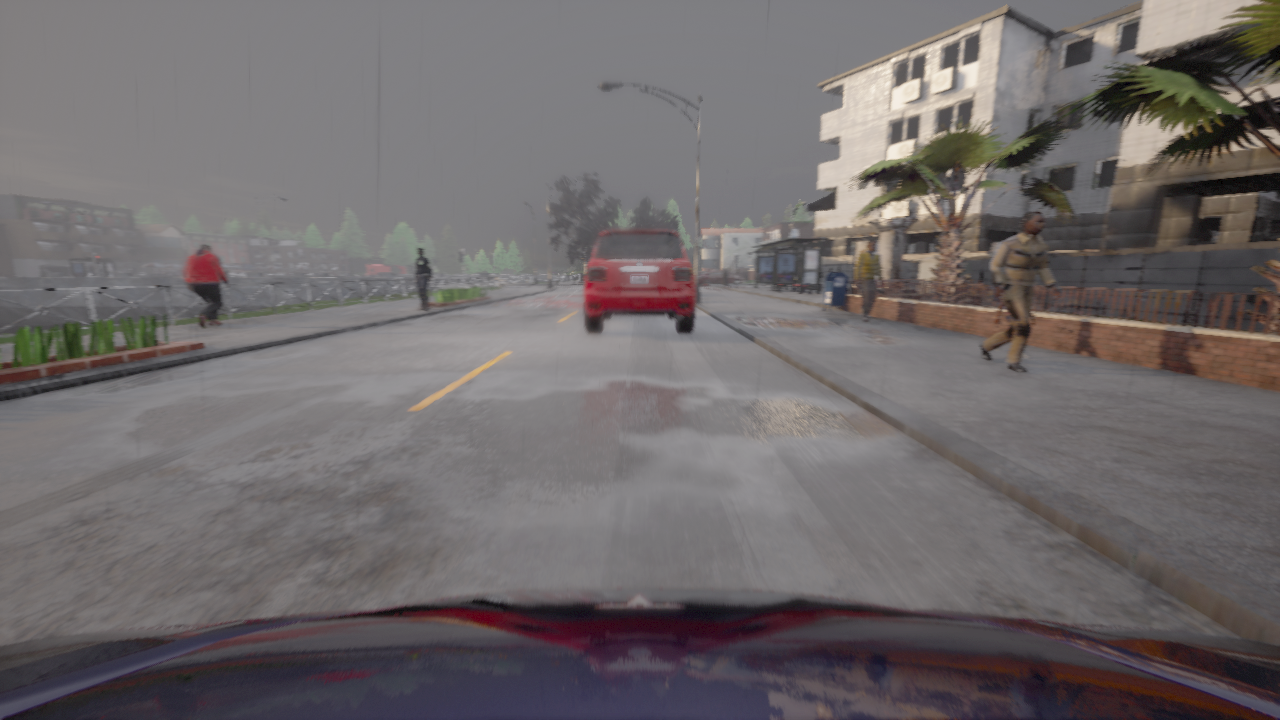cyclist: (0, 588, 1279, 719), (584, 229, 694, 332), (698, 271, 743, 286), (147, 270, 182, 277)
pedestrian: (979, 210, 1061, 372), (183, 243, 229, 327), (855, 239, 883, 322), (994, 302, 1035, 357), (414, 247, 432, 311)
